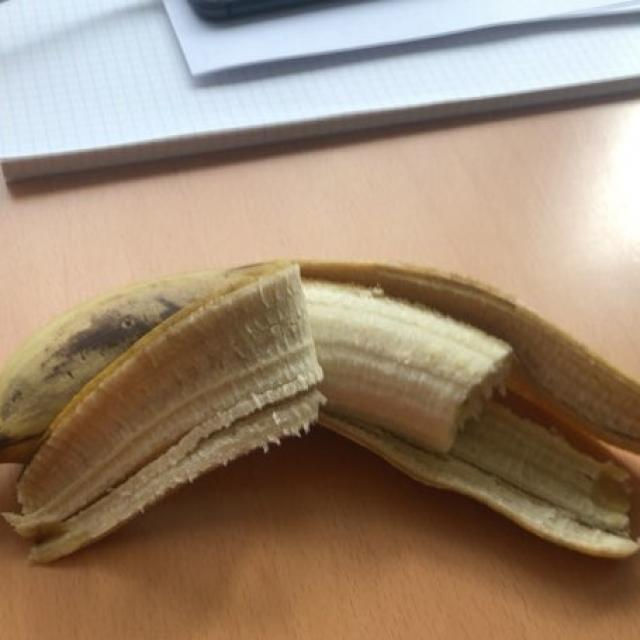banana: (313, 278, 532, 442)
